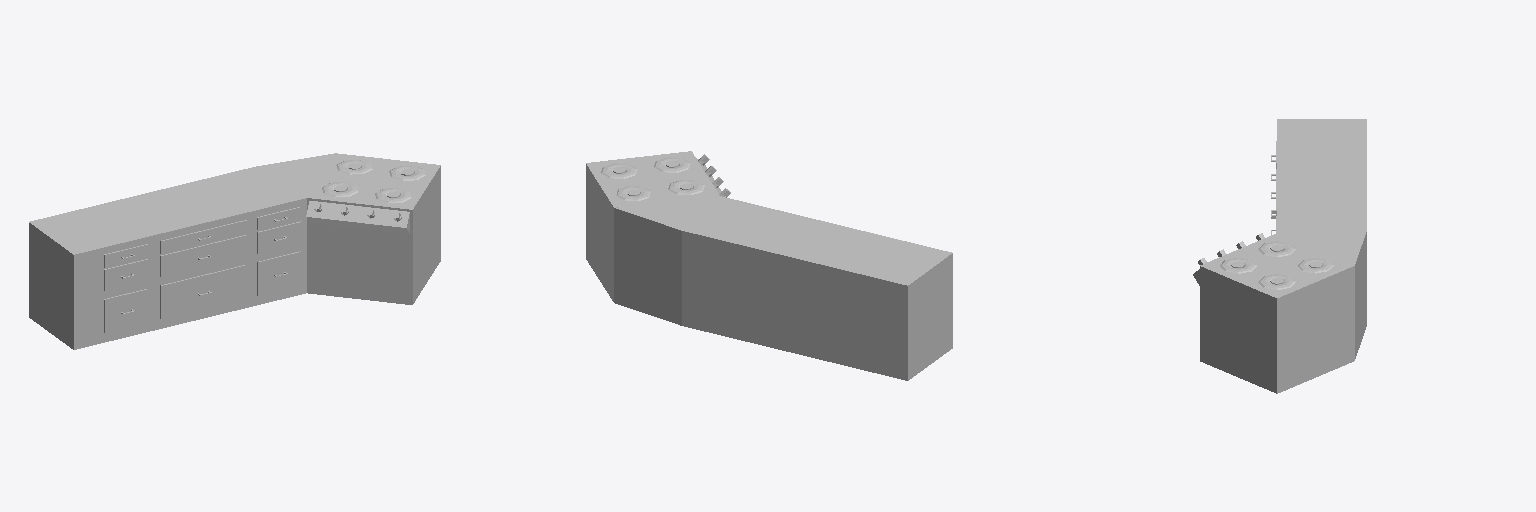
The model's file is CompleteWorkspace.obj.
3 views of the same model, side by side, from view 1: azimuth 30°, elevation 25°; view 2: azimuth 150°, elevation 25°; view 3: azimuth 270°, elevation 25° (orthographic).
Parts seen in each view (by area): view 1: Top_Right_Drawer_geo, Stove_geo Stove_Base_geo; view 2: Top_Right_Drawer_geo, Stove_geo Stove_Base_geo; view 3: Stove_geo Stove_Base_geo, Top_Right_Drawer_geo.
Boxes of the visible parts, <box> form: Top_Right_Drawer_geo: <box>29,153,334,349</box>; Stove_geo Stove_Base_geo: <box>306,153,440,304</box>; Top_Right_Drawer_geo: <box>614,196,952,380</box>; Stove_geo Stove_Base_geo: <box>586,151,721,301</box>; Stove_geo Stove_Base_geo: <box>1193,233,1354,393</box>; Top_Right_Drawer_geo: <box>1271,119,1366,358</box>.
Bounding box in the file's own units: 425 × 107 × 175.